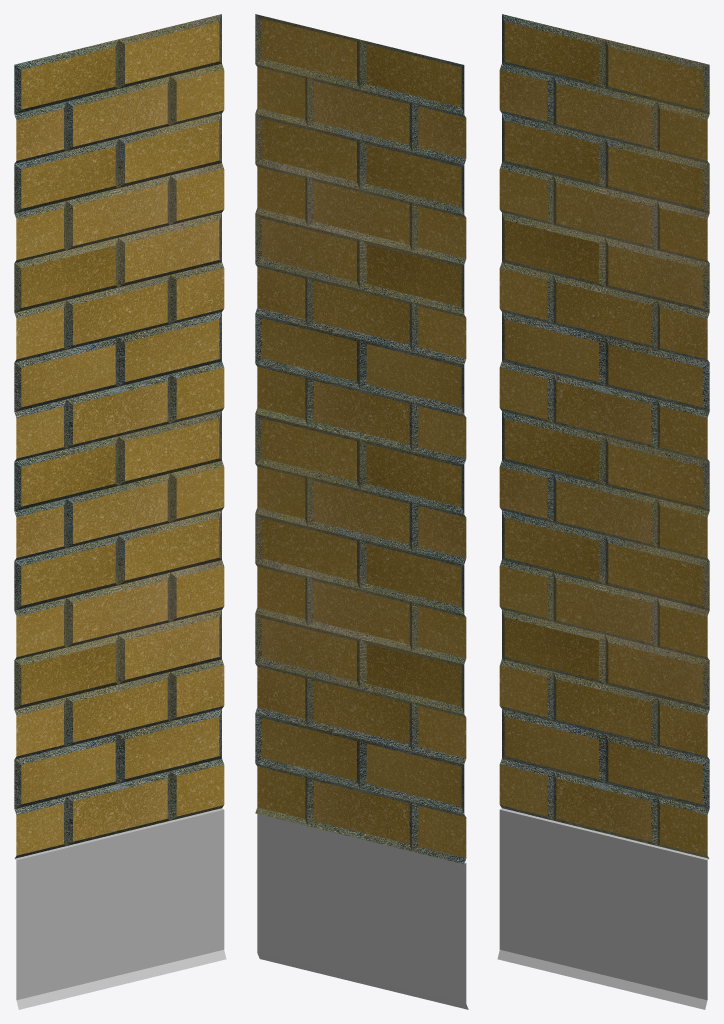
File: Parede1Madeira.fbx
The picture shows the model from 3 angles, left to right: view 1: azimuth 30°, elevation 25°; view 2: azimuth 150°, elevation 25°; view 3: azimuth 330°, elevation 25°; orthographic projection.
Visible parts, largest first — view 1: Plano.003; view 2: Plano.003; view 3: Plano.003.
Boxes of the visible parts, left/top/right/bottom form: Plano.003: left=14, top=14, right=226, bottom=1009; Plano.003: left=255, top=14, right=468, bottom=1009; Plano.003: left=497, top=14, right=709, bottom=1009.
Bounding box in the file's own units: 2925 × 12676 × 109.
